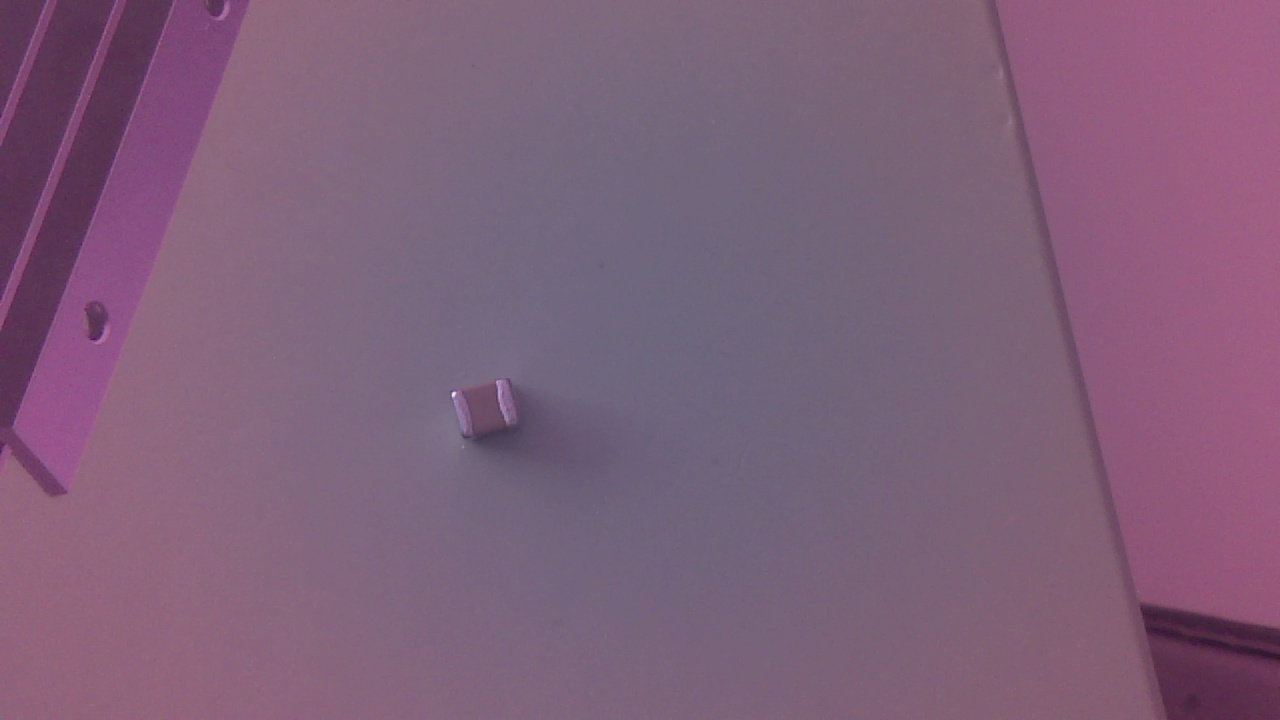Condensator: (453, 380, 528, 450)
